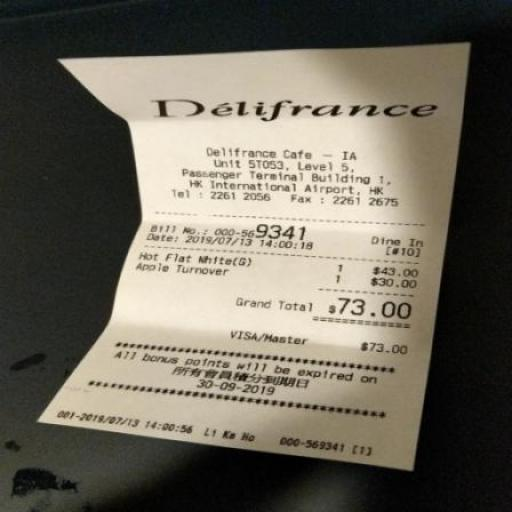paper: (28, 19, 512, 495)
